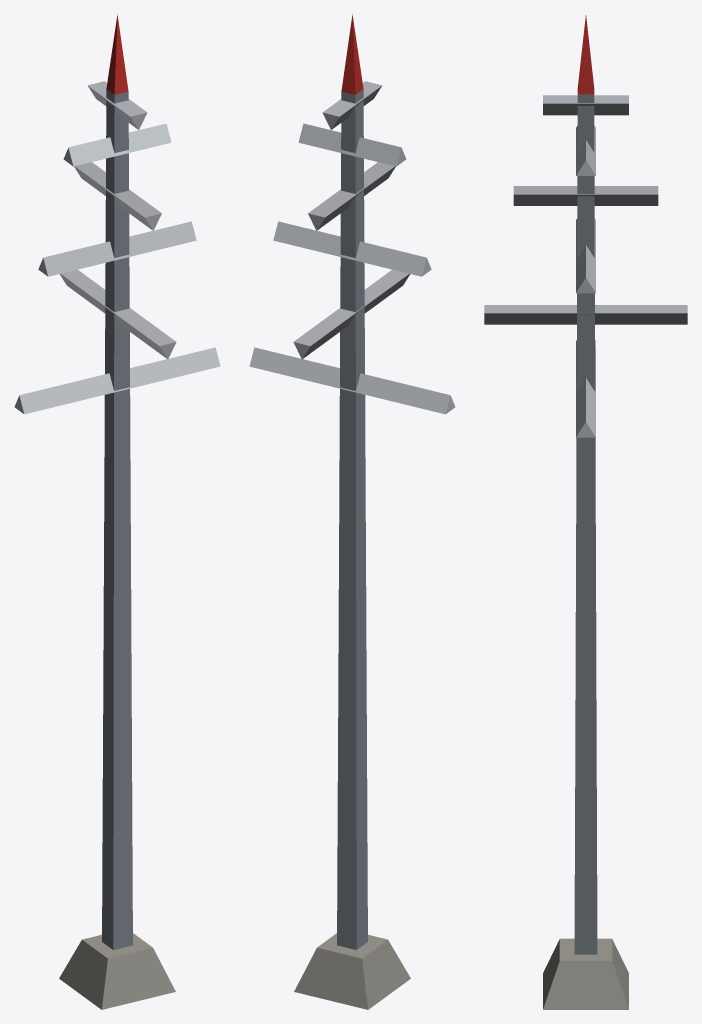
The model's file is prop_antenna.glb.
The picture shows the model from 3 angles, left to right: view 1: azimuth 30°, elevation 25°; view 2: azimuth 150°, elevation 25°; view 3: azimuth 270°, elevation 25°; orthographic projection.
Parts seen in each view (by area): view 1: prop_antenna; view 2: prop_antenna; view 3: prop_antenna.
Part boxes in pixels (box(x1,y1,x2,y2)): prop_antenna: box(14, 14, 220, 1009); prop_antenna: box(249, 14, 455, 1009); prop_antenna: box(484, 15, 687, 1009).
Size of the model in its own units: 1.48 by 7 by 1.32.
